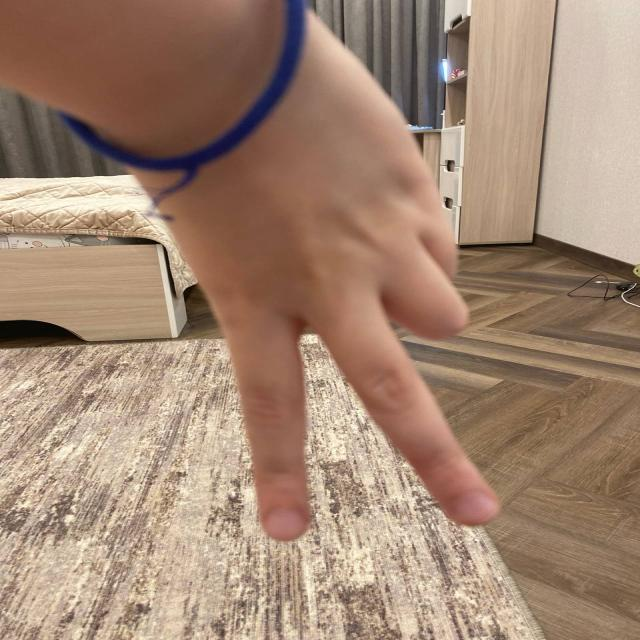l: (144, 187, 560, 548)
